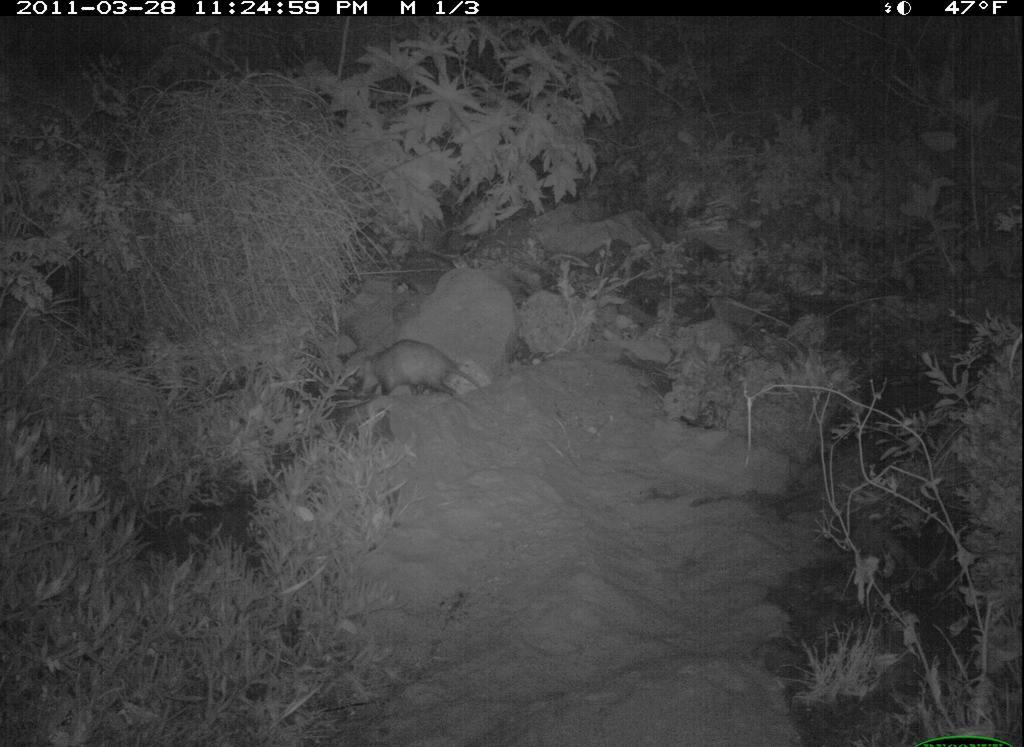opossum: (347, 336, 495, 409)
